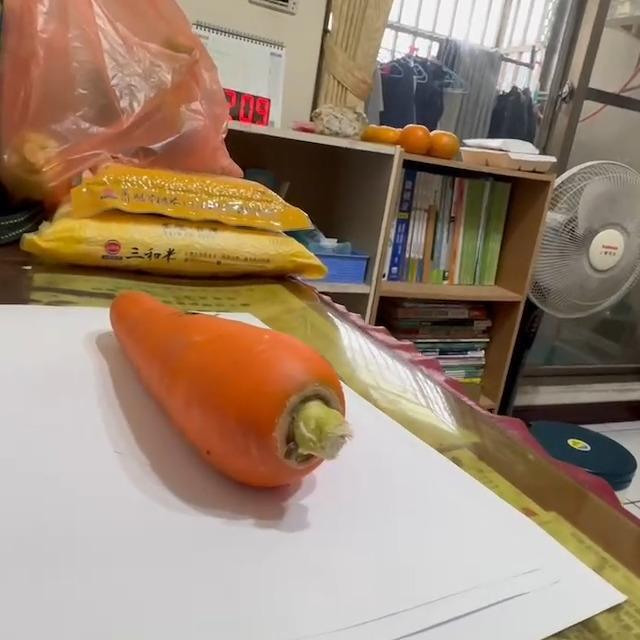carrot: (108, 290, 353, 491)
